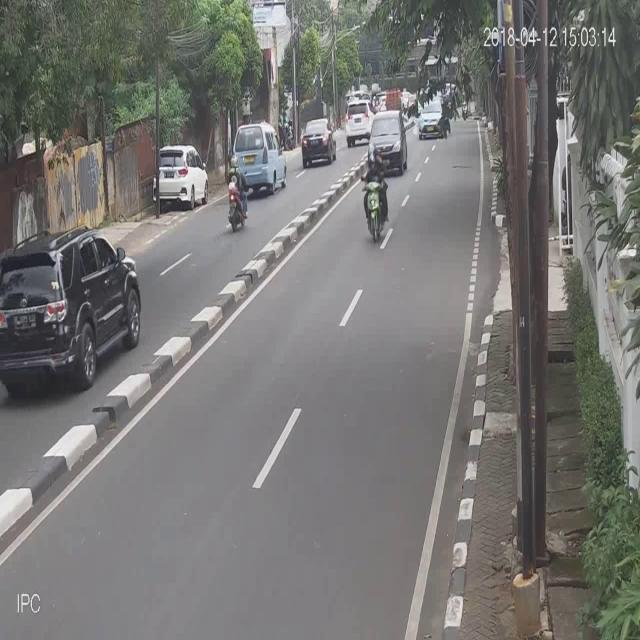bus: (360, 150, 390, 243), (226, 150, 250, 235)
motorcycle: (0, 224, 141, 394), (152, 142, 208, 217), (236, 119, 288, 194), (301, 116, 337, 170), (345, 98, 370, 146)
